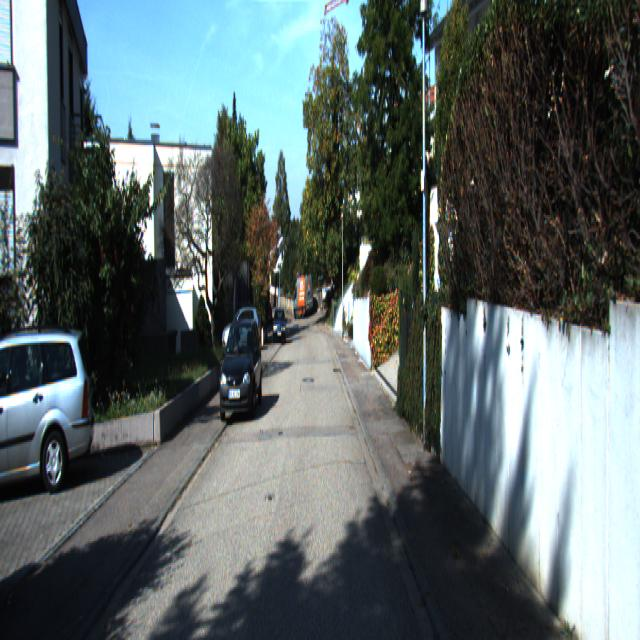Car: (0, 326, 96, 508), (218, 317, 264, 423), (221, 307, 262, 355), (272, 308, 286, 344)
Van: (293, 276, 314, 320)
